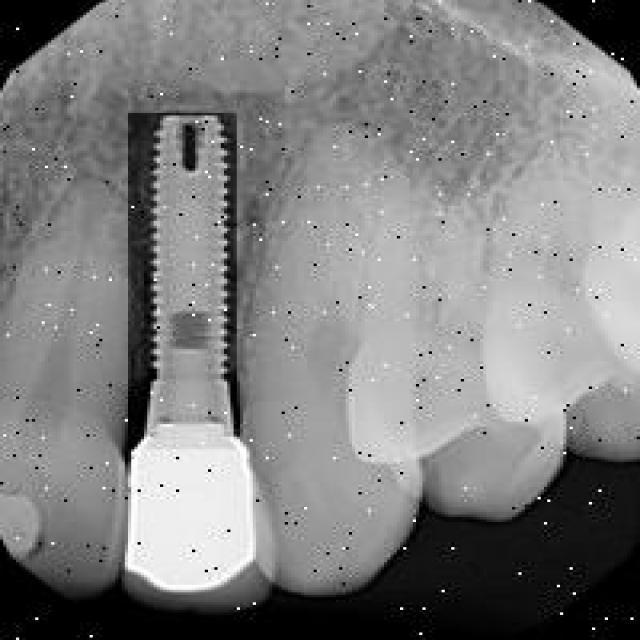Retained root: (128, 113, 237, 449)
